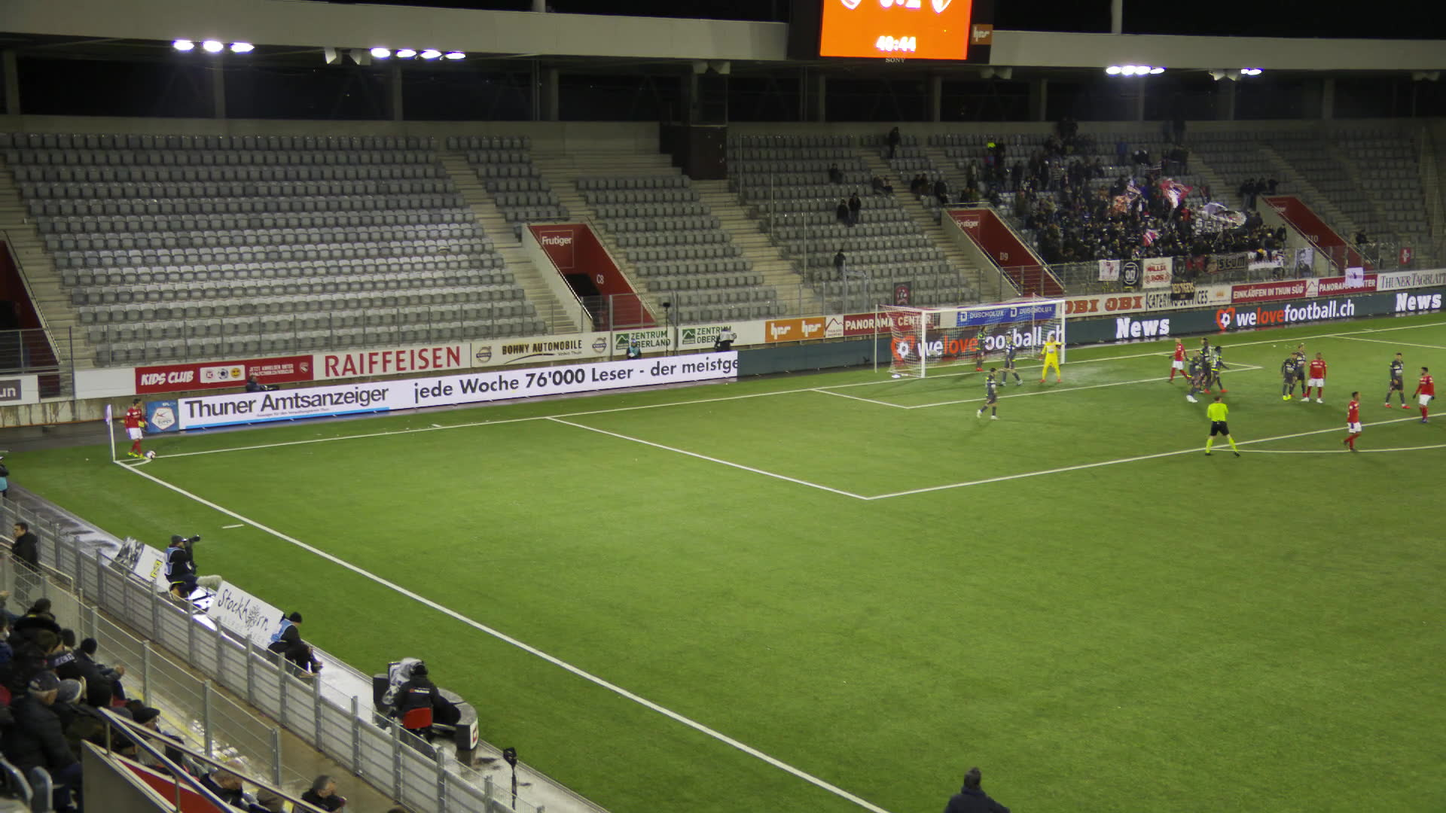ball: (145, 449, 156, 460)
player: (974, 367, 1006, 422), (123, 397, 150, 461), (1338, 388, 1364, 454), (1382, 352, 1411, 410), (1298, 351, 1328, 404), (1035, 333, 1066, 384), (996, 333, 1025, 387), (1410, 365, 1436, 425), (1161, 333, 1191, 384), (1202, 345, 1231, 396), (1286, 344, 1308, 397), (1184, 348, 1204, 403), (1278, 351, 1300, 401), (1198, 340, 1214, 394), (1192, 336, 1209, 386), (974, 325, 992, 372)
referee: (1202, 394, 1240, 457)
